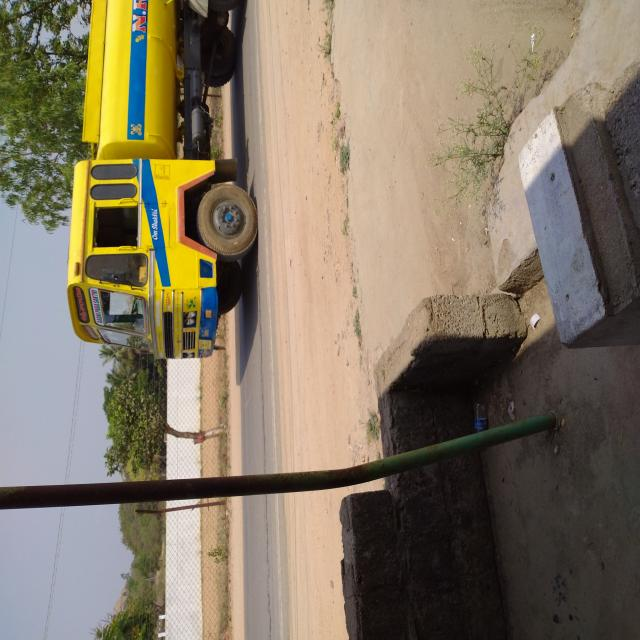Truck: (196, 68, 480, 352)
